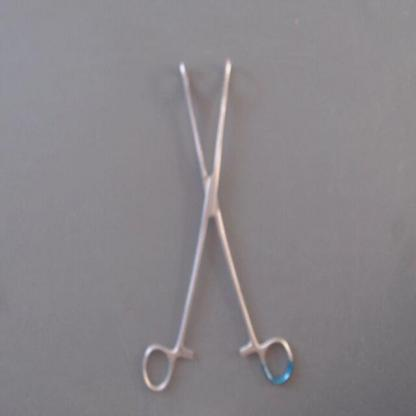Sponge Forceps: (132, 47, 302, 399)
